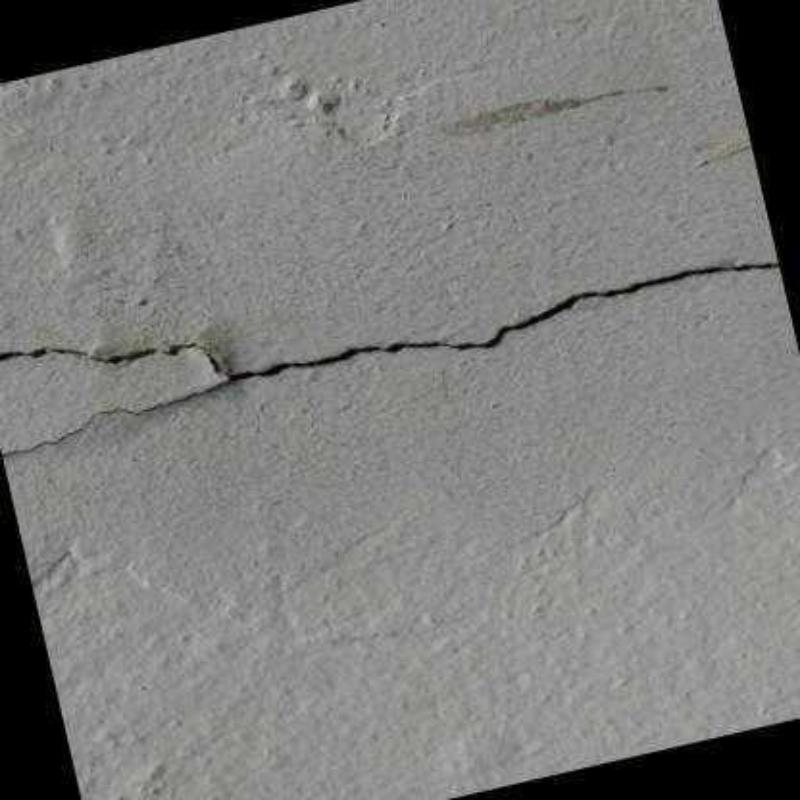pothole: (0, 253, 780, 460)
